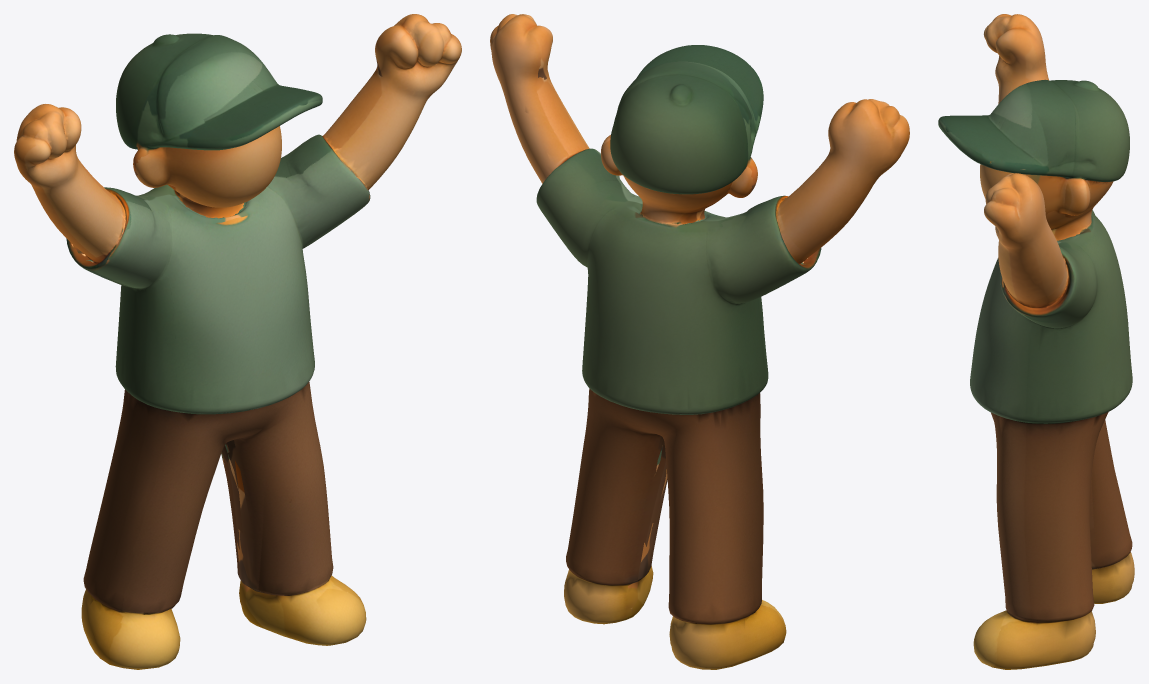
File: Spect_4Mesh.fbx
3 views of the same model, side by side, from view 1: azimuth 30°, elevation 25°; view 2: azimuth 150°, elevation 25°; view 3: azimuth 270°, elevation 25° (orthographic). The views are drawn at different scales.
Parts seen in each view (by area): view 1: Character; view 2: Character; view 3: Character.
Boxes of the visible parts, left/top/right/bottom form: Character: left=14, top=14, right=461, bottom=669; Character: left=490, top=14, right=909, bottom=669; Character: left=938, top=14, right=1134, bottom=669.
Size of the model in its own units: 77.94 by 100 by 33.77.
